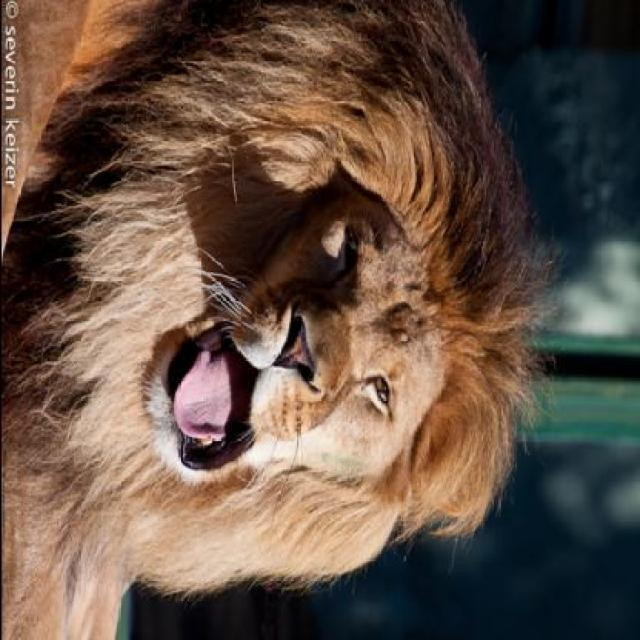Lion: (2, 3, 556, 639)
